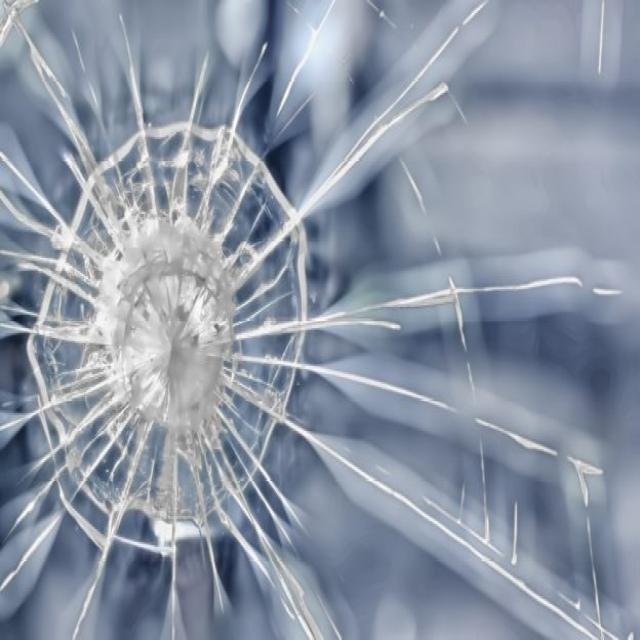crack: (0, 0, 623, 640)
